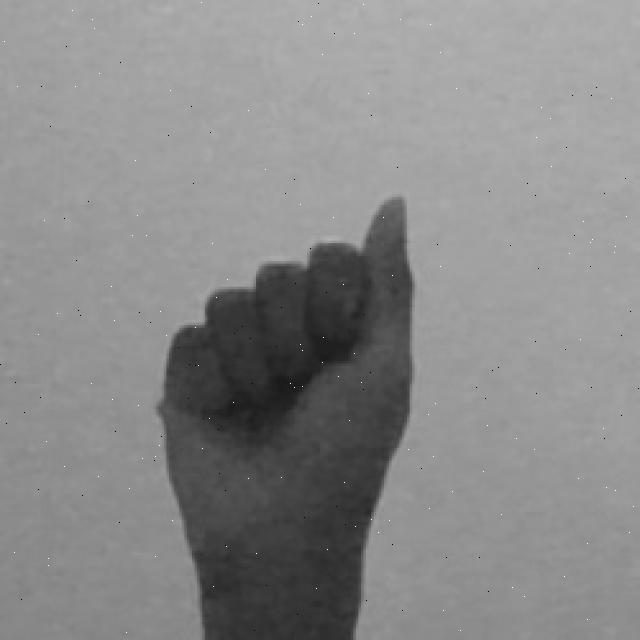A: (149, 179, 430, 640), (146, 187, 422, 640)
